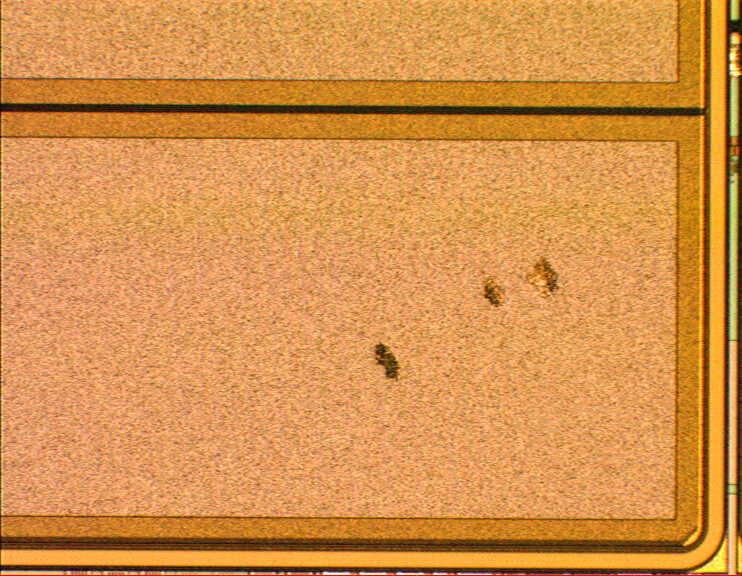SCRATCH: (365, 239, 590, 387)
